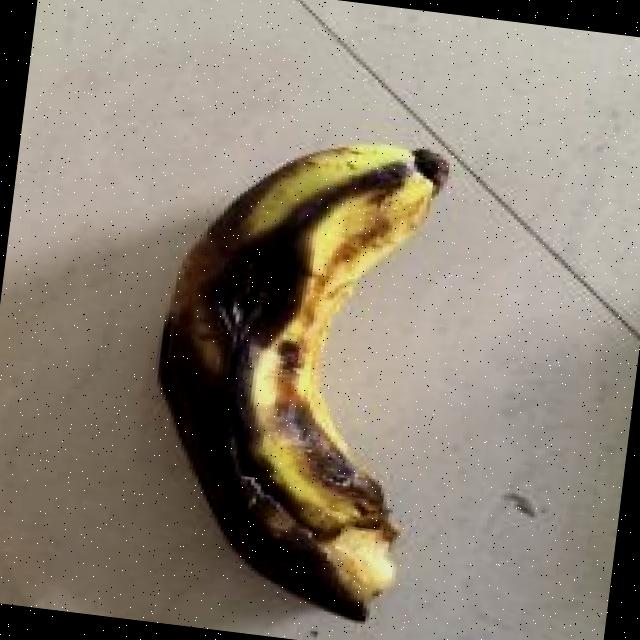Rotten: (85, 68, 546, 640)
